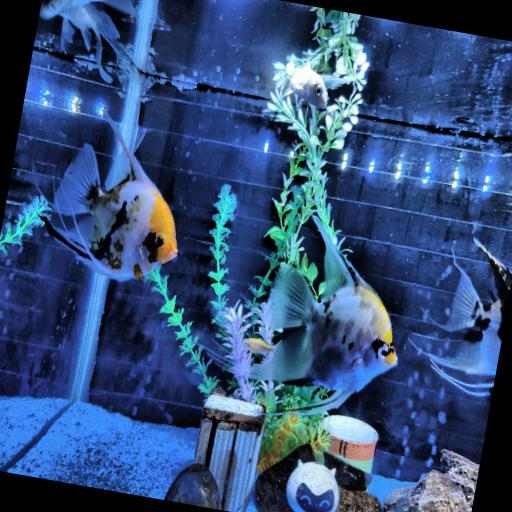Fish: (250, 217, 397, 402), (42, 113, 177, 281), (417, 239, 511, 395), (39, 0, 135, 82), (284, 62, 344, 109), (244, 338, 274, 353)
